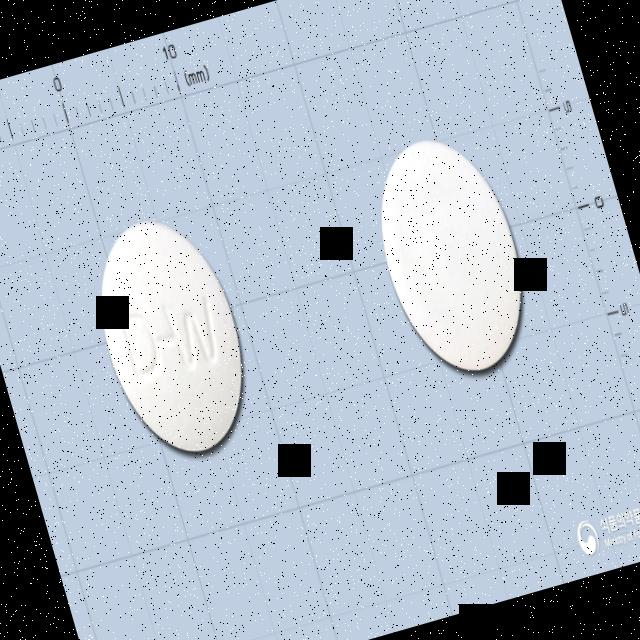Cipoxacin: (73, 198, 271, 474)
